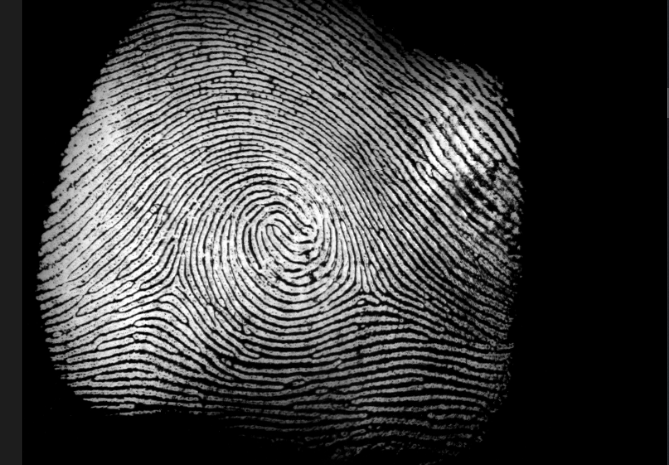deltas: (146, 256, 201, 316), (343, 263, 389, 309)
nucleo: (243, 187, 316, 268)
